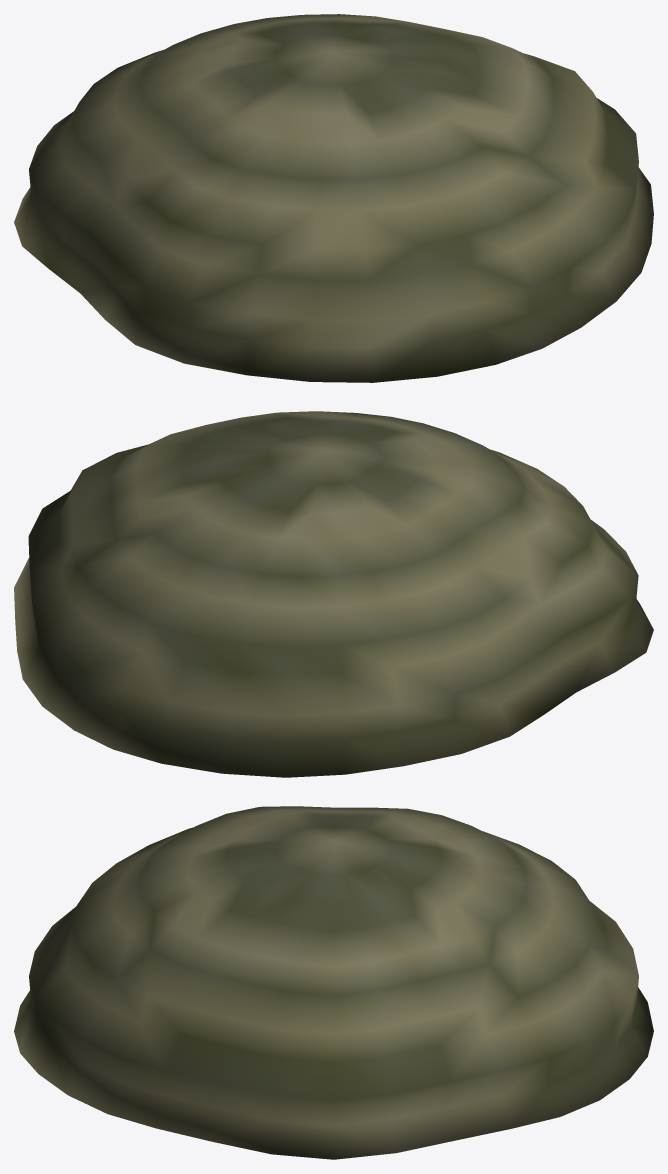
The model's file is triassic-stromatolite-2.glb.
3 renders of one model, top to bottom at view 1: azimuth 30°, elevation 25°; view 2: azimuth 150°, elevation 25°; view 3: azimuth 270°, elevation 25°, orthographic.
Parts seen in each view (by area): view 1: triassic-stromatolite-2; view 2: triassic-stromatolite-2; view 3: triassic-stromatolite-2.
Boxes of the visible parts, box(x1,y1,x2,y2) form: triassic-stromatolite-2: box(14, 14, 653, 382); triassic-stromatolite-2: box(14, 411, 653, 777); triassic-stromatolite-2: box(14, 806, 653, 1159).
Bounding box in the file's own units: 0.725 × 0.2449 × 0.7369.
